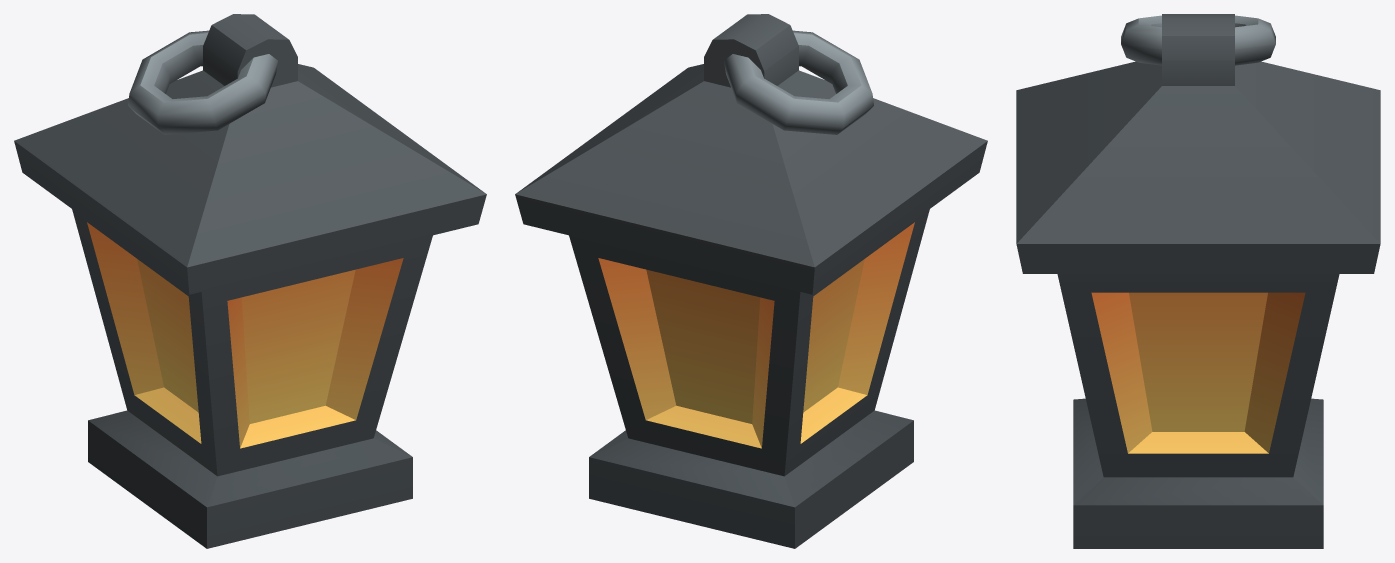
The model's file is kk_lantern_stone.glb.
3 views of the same model, side by side, from view 1: azimuth 30°, elevation 25°; view 2: azimuth 150°, elevation 25°; view 3: azimuth 270°, elevation 25° (orthographic). The views are drawn at different scales.
Visible parts, largest first — view 1: lantern_standing; view 2: lantern_standing; view 3: lantern_standing.
Part boxes in pixels (x1,y1,x2,y2): lantern_standing: (14, 14, 486, 548); lantern_standing: (515, 14, 987, 548); lantern_standing: (1016, 14, 1380, 548).
Size of the model in its own units: 0.64 by 0.9252 by 0.64.
Materials: 1 (1 with a texture image).
